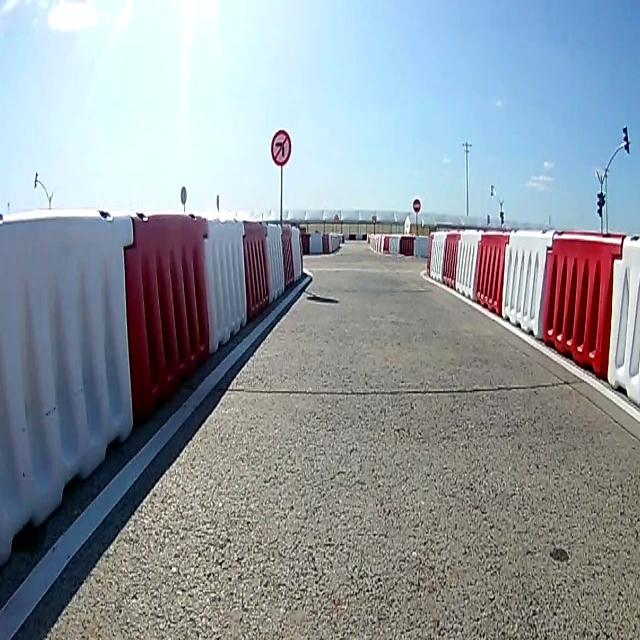girisyok: (413, 198, 421, 212)
soladonulmez: (270, 129, 292, 167)
